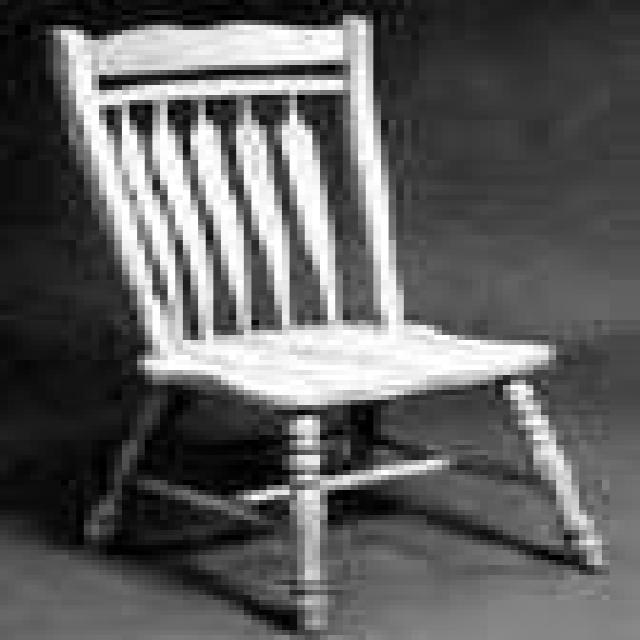chair: (44, 15, 616, 632)
